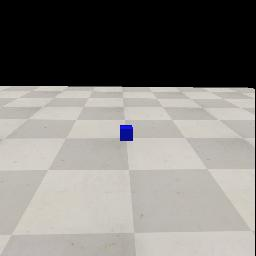box: (120, 125, 133, 141)
